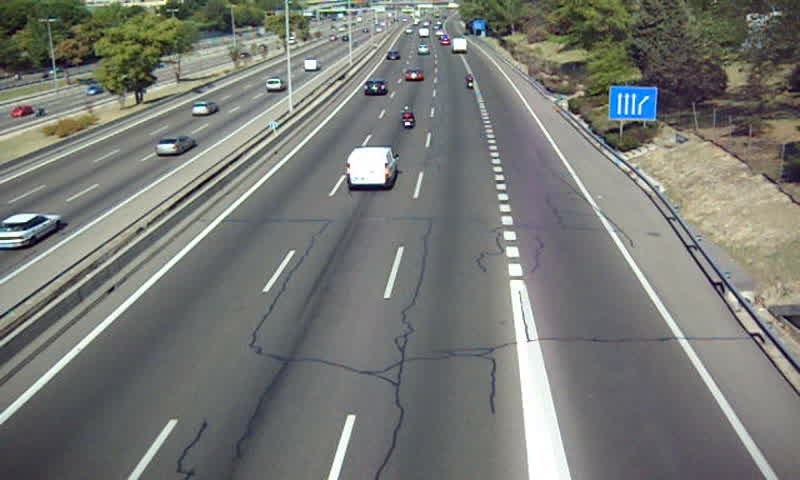car: (363, 78, 388, 96), (403, 69, 422, 82)
motorcycle: (399, 106, 415, 131), (465, 73, 475, 92)
van: (347, 146, 398, 190), (453, 37, 468, 54)
